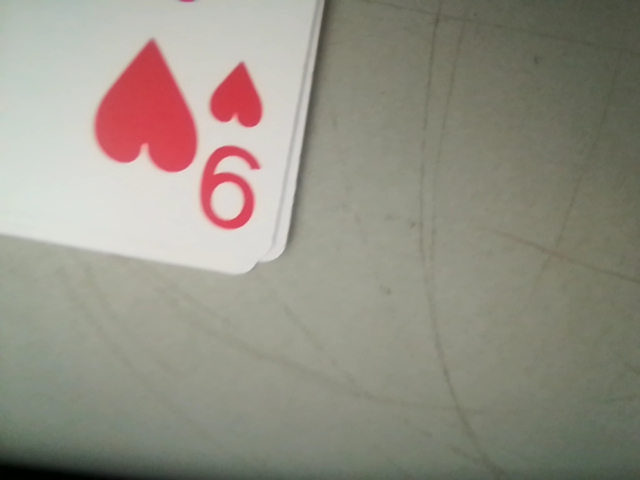hx 9: (195, 57, 268, 230)
